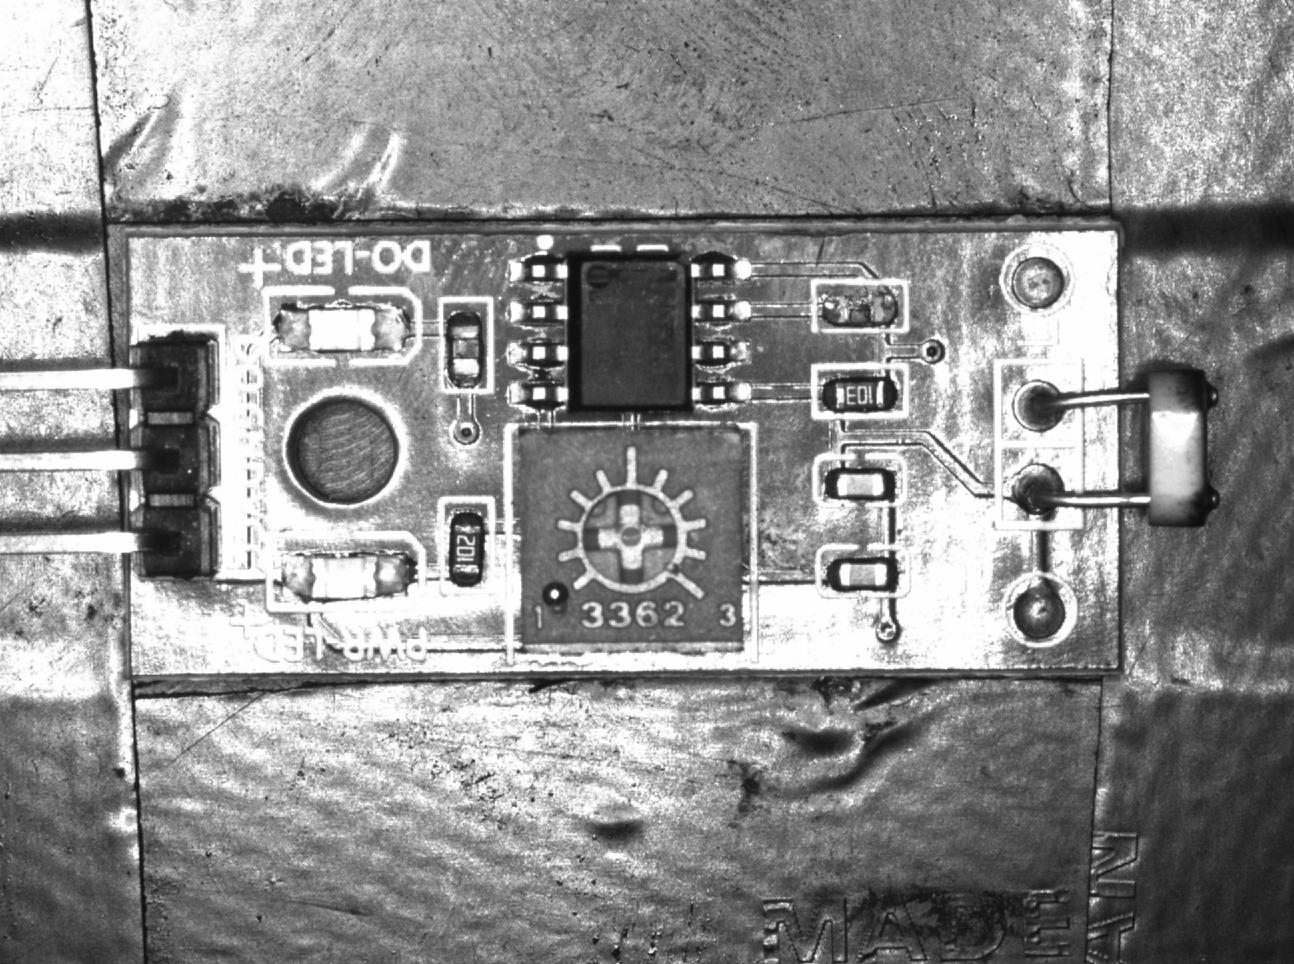miss: (808, 278, 908, 333), (440, 295, 493, 394)
ok: (440, 491, 494, 599), (816, 543, 911, 599), (814, 366, 910, 421), (816, 455, 908, 508)
